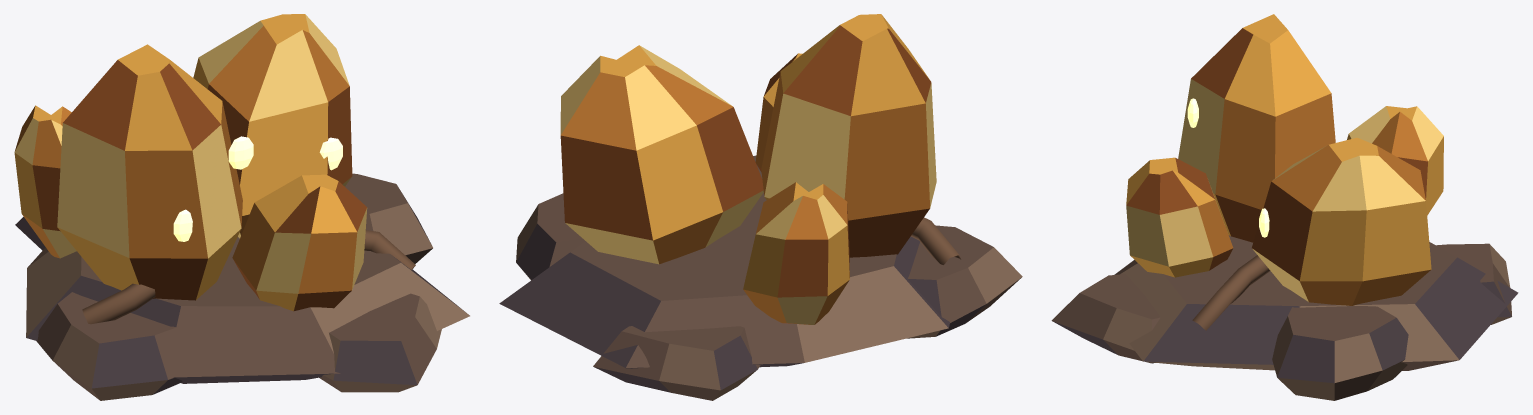
The model's file is Spirit_Amber_Ore.glb.
3 views of the same model, side by side, from view 1: azimuth 30°, elevation 25°; view 2: azimuth 150°, elevation 25°; view 3: azimuth 270°, elevation 25° (orthographic). The views are drawn at different scales.
Visible parts, largest first — view 1: GAME | fossil resin 1, GAME | low slate dais, GAME | fossil resin 2, GAME | fossil resin 3, GAME | fractured rim 1, GAME | fractured rim 4, GAME | fossil resin 4, GAME | fractured rim 2, GAME | petrified root 1, GAME | petrified root 2, GAME | captive light 2, GAME | captive light 3 (+1 smaller); view 2: GAME | fossil resin 2, GAME | low slate dais, GAME | fossil resin 1, GAME | fossil resin 4, GAME | fractured rim 3, GAME | fractured rim 1, GAME | fractured rim 2, GAME | petrified root 1, GAME | fossil resin 3; view 3: GAME | fossil resin 2, GAME | low slate dais, GAME | fossil resin 1, GAME | fractured rim 2, GAME | fossil resin 3, GAME | fractured rim 4, GAME | fossil resin 4, GAME | fractured rim 3, GAME | petrified root 2.
Part boxes in pixels (x1,y1,x2,y2): GAME | fossil resin 1: [57, 44, 242, 300]; GAME | low slate dais: [26, 237, 469, 383]; GAME | fossil resin 2: [193, 14, 352, 238]; GAME | fossil resin 3: [232, 174, 367, 311]; GAME | fractured rim 1: [36, 292, 182, 400]; GAME | fractured rim 4: [319, 293, 441, 392]; GAME | fossil resin 4: [14, 105, 76, 258]; GAME | fractured rim 2: [345, 173, 432, 263]; GAME | petrified root 1: [82, 283, 155, 324]; GAME | petrified root 2: [364, 230, 415, 269]; GAME | captive light 2: [228, 136, 253, 169]; GAME | captive light 3: [319, 137, 342, 170]; GAME | fossil resin 2: [560, 45, 763, 264]; GAME | low slate dais: [499, 165, 949, 368]; GAME | fossil resin 1: [761, 14, 936, 257]; GAME | fossil resin 4: [743, 182, 849, 324]; GAME | fractured rim 3: [593, 326, 760, 400]; GAME | fractured rim 1: [907, 225, 1022, 338]; GAME | fractured rim 2: [516, 193, 584, 280]; GAME | petrified root 1: [911, 217, 960, 264]; GAME | fossil resin 3: [755, 53, 802, 172]; GAME | fossil resin 2: [1252, 137, 1431, 305]; GAME | low slate dais: [1114, 235, 1518, 370]; GAME | fossil resin 1: [1178, 14, 1335, 242]; GAME | fractured rim 2: [1272, 306, 1408, 400]; GAME | fossil resin 3: [1126, 157, 1233, 277]; GAME | fractured rim 4: [1051, 274, 1160, 363]; GAME | fossil resin 4: [1347, 106, 1443, 215]; GAME | fractured rim 3: [1436, 243, 1511, 324]; GAME | petrified root 2: [1192, 255, 1270, 330].
Size of the model in its own units: 2.62 by 1.81 by 2.95.
